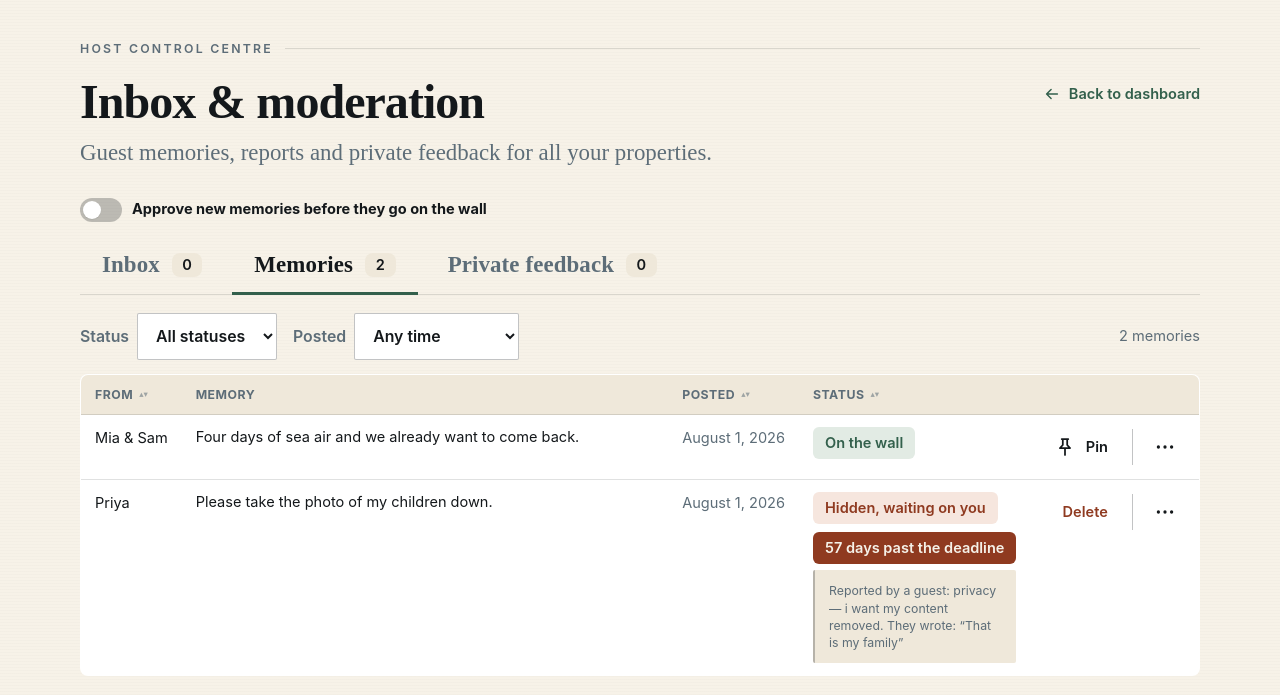
Scenario: the memories table › asks before a permanent deletion, and does nothing if the Host backs out
The image size is (1280, 695).
Expected: the text "Please take the photo of my children down." is shown, [196,493,493,511]
Click the button "Delete" at (1086, 512), box [1044,492,1128,532]
(page scrolled)
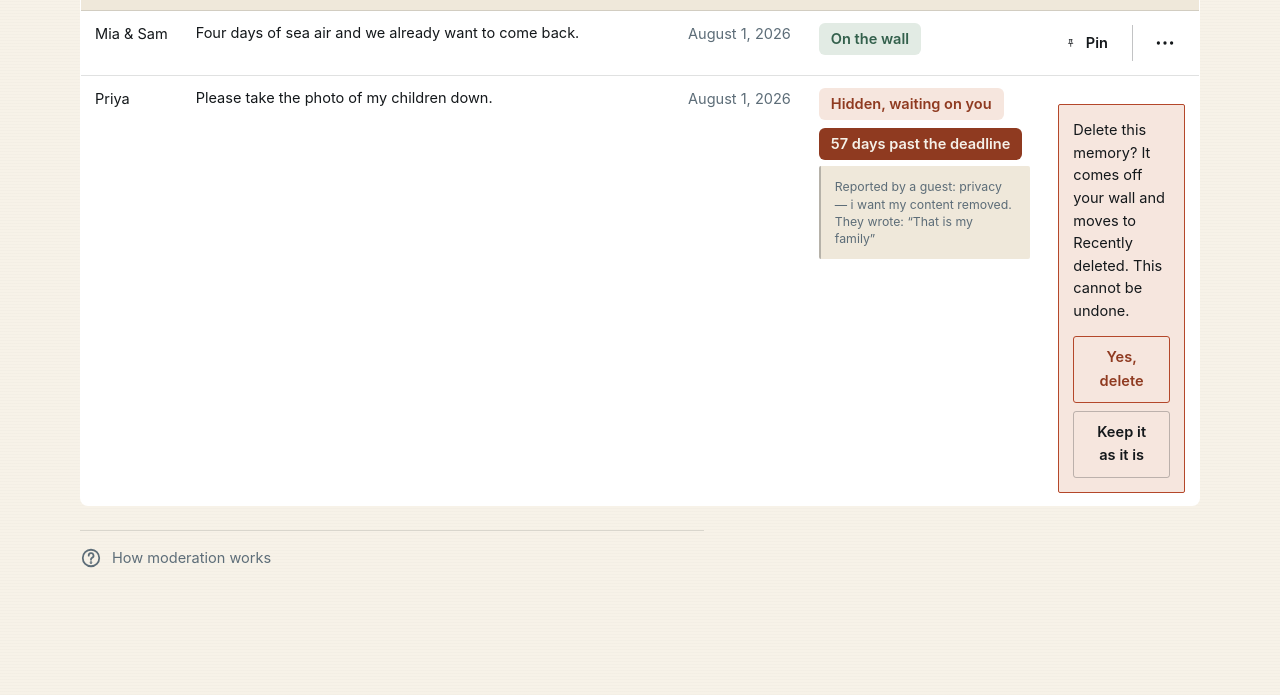
Click the button "Keep it as it is" at (1122, 444), box [1073,411,1170,478]
(page scrolled)
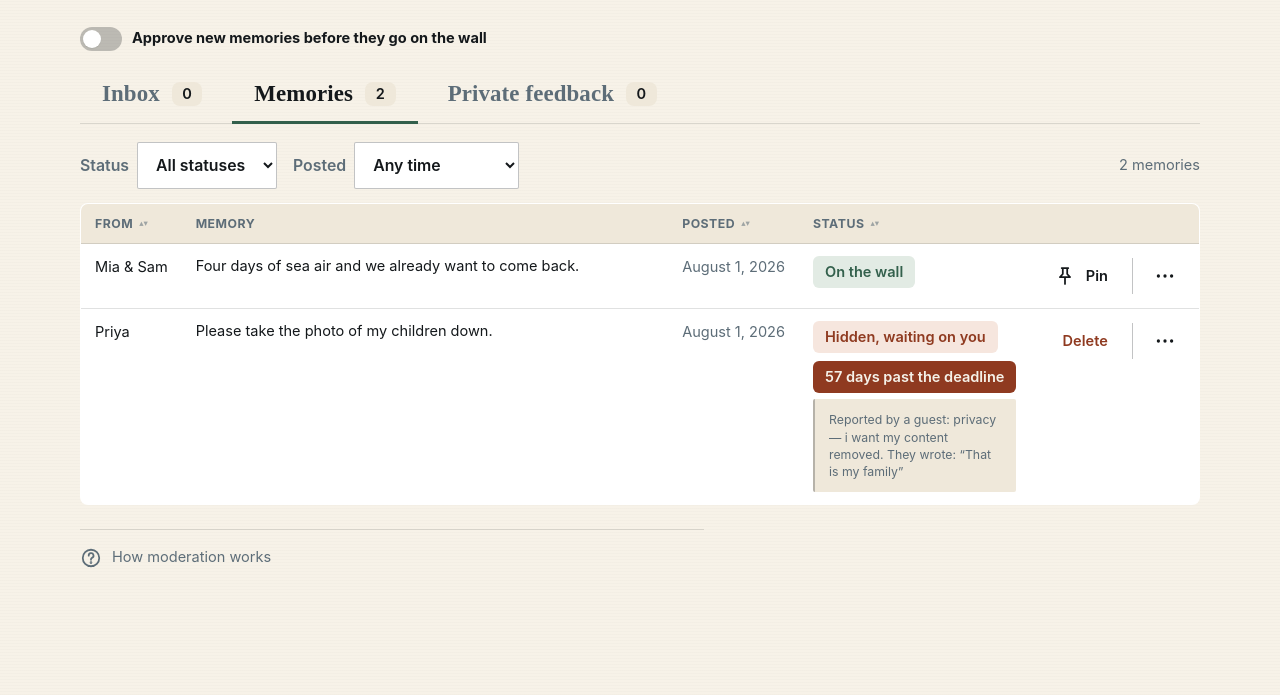
Result: the dialog is gone
